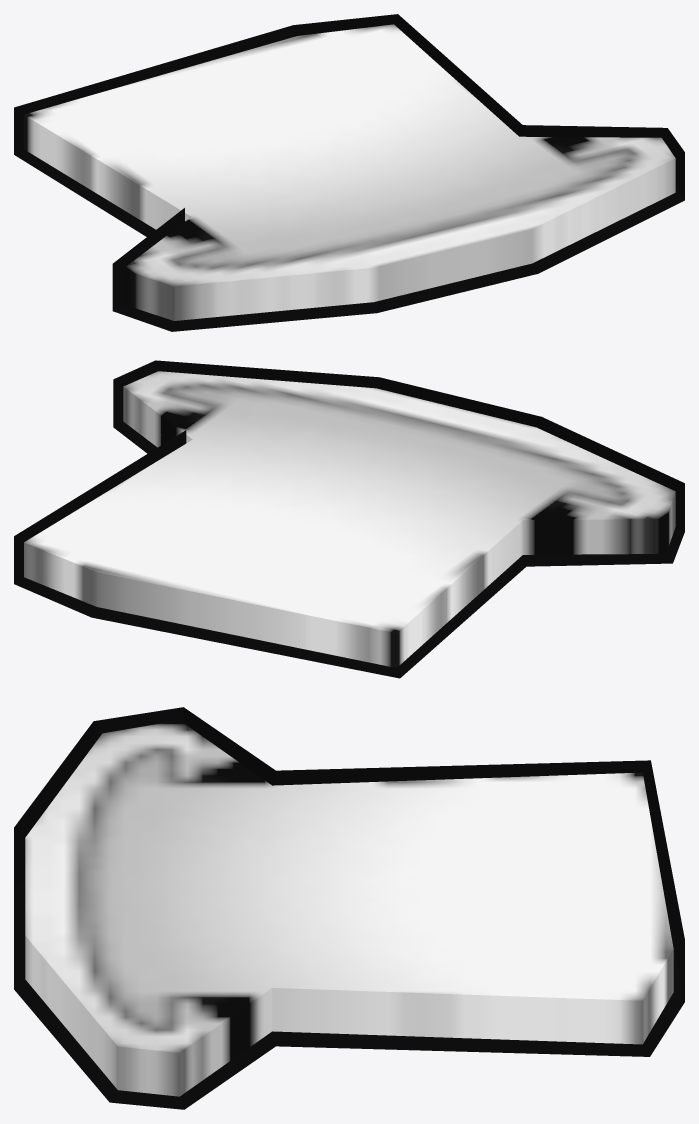
The model's file is Item_Apparel_HatTop_Things_Pawn_Humanlike_Apparel_TopHat_TopHat.glb.
3 renders of one model, top to bottom at view 1: azimuth 30°, elevation 25°; view 2: azimuth 150°, elevation 25°; view 3: azimuth 270°, elevation 25°, orthographic. The views are drawn at different scales.
Visible parts, largest first — view 1: Body, Outline; view 2: Body, Outline; view 3: Body, Outline.
Boxes of the visible parts, x1,y1,x2,y2 form: Body: (23,24,675,320); Outline: (14,14,684,331); Body: (24,371,675,667); Outline: (14,360,684,678); Body: (25,720,673,1096); Outline: (14,707,684,1109).
Bounding box in the file's own units: 0.4102 × 0.0376 × 0.3396.
Materials: 2 (1 with a texture image).
